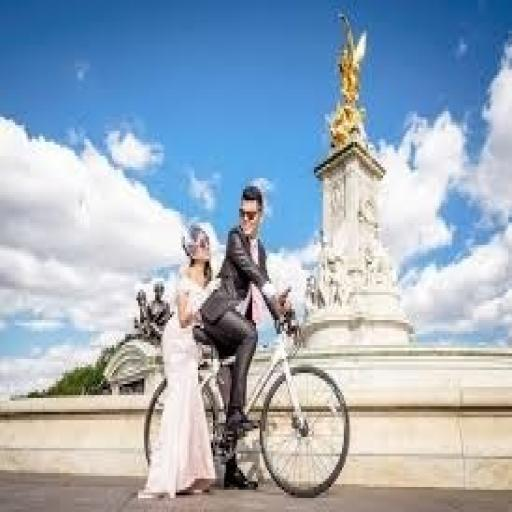cycling: (198, 181, 299, 492), (136, 220, 220, 504)
